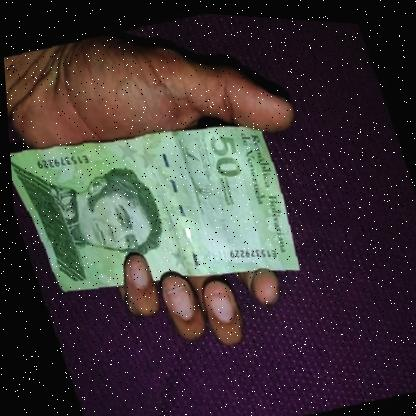fifty-front-vef: (5, 89, 306, 330)
